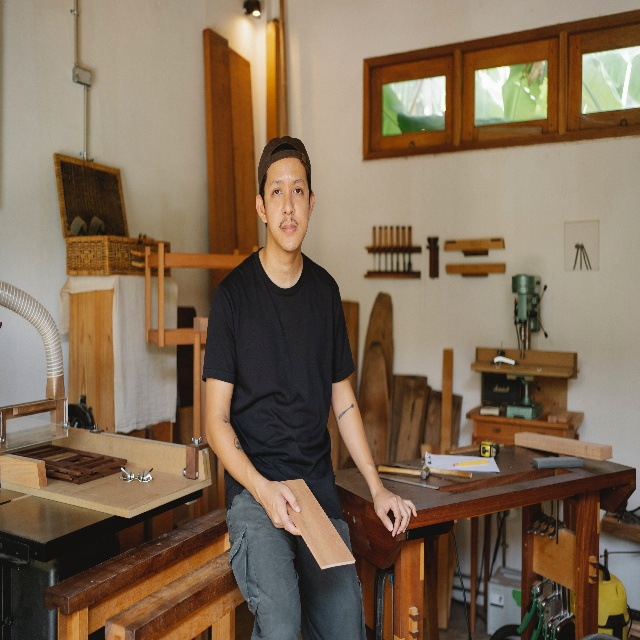Gafas: (119, 465, 154, 483)
Sin_guantes: (256, 478, 302, 537), (373, 485, 417, 538)
